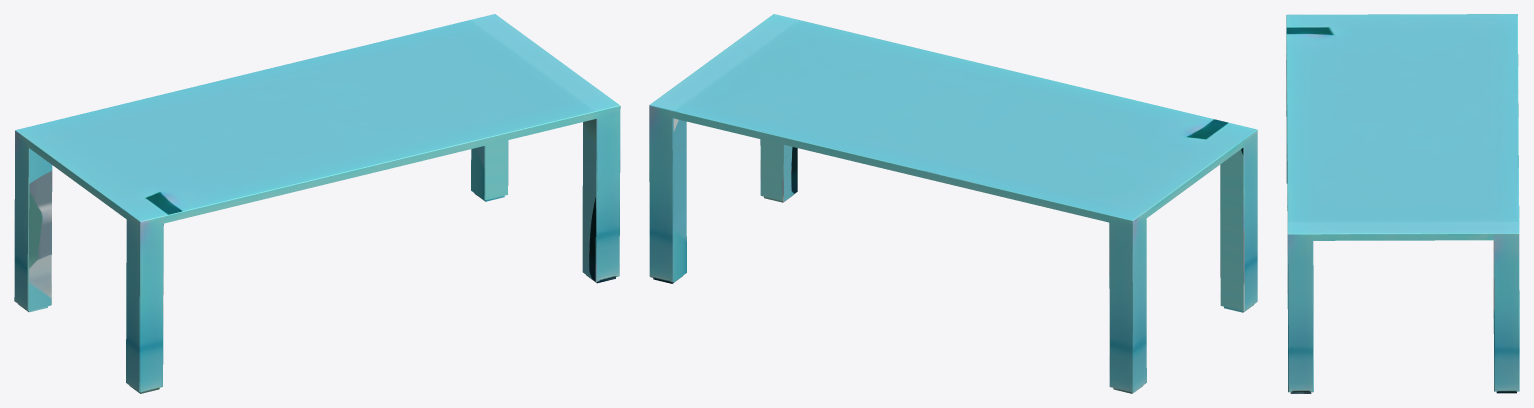
The model's file is edited_mesh.glb.
The picture shows the model from 3 angles, left to right: view 1: azimuth 30°, elevation 25°; view 2: azimuth 150°, elevation 25°; view 3: azimuth 270°, elevation 25°; orthographic projection. The views are drawn at different scales.
Visible parts, largest first — view 1: normalized_model.obj; view 2: normalized_model.obj; view 3: normalized_model.obj.
Boxes of the visible parts, left/top/right/bottom form: normalized_model.obj: left=14, top=14, right=620, bottom=393; normalized_model.obj: left=649, top=14, right=1257, bottom=393; normalized_model.obj: left=1286, top=14, right=1519, bottom=393.
Bounding box in the file's own units: 2 × 0.6972 × 0.9035.
Materials: 1 (1 with a texture image).
